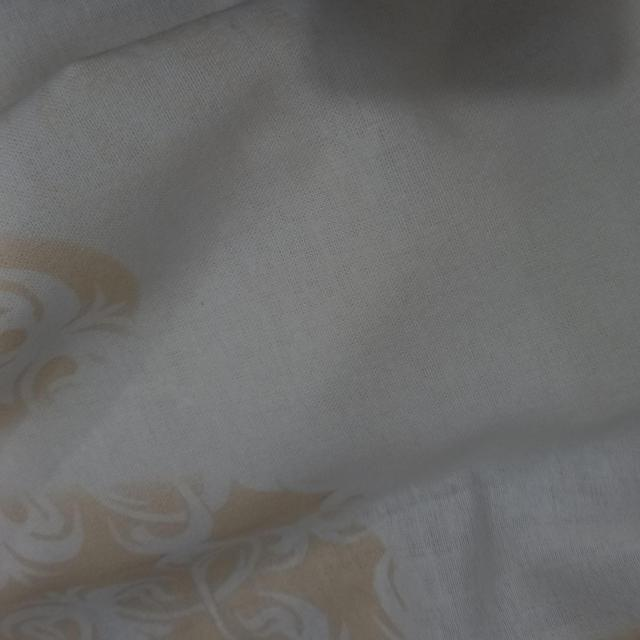color issues: (15, 6, 640, 284), (16, 298, 622, 514), (374, 520, 640, 630)
